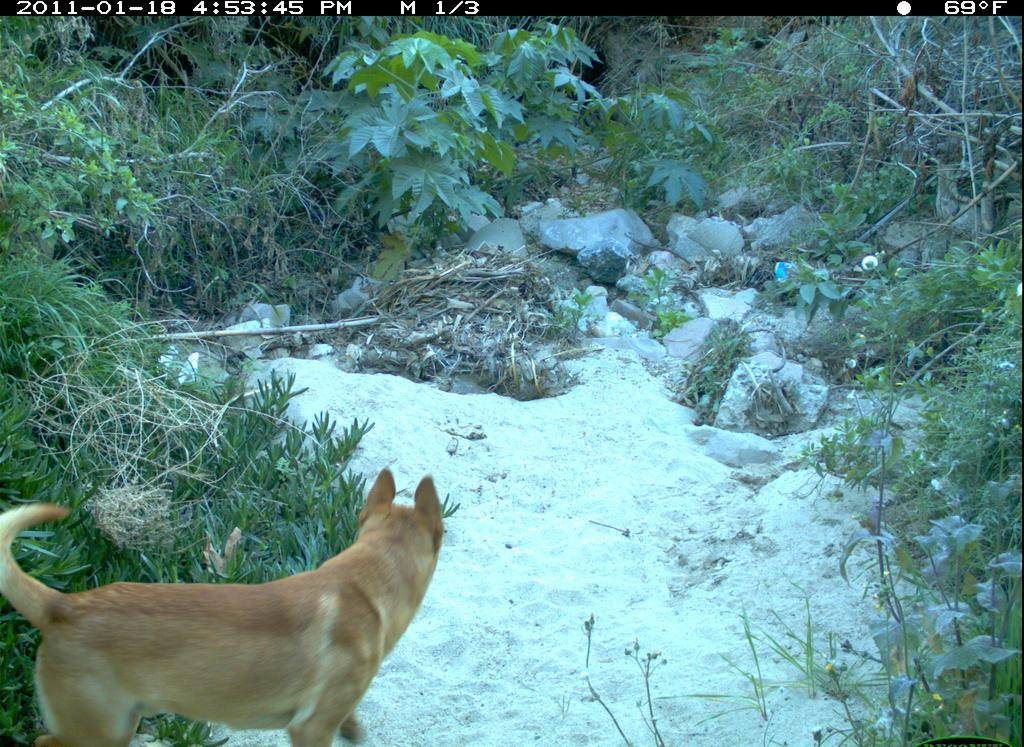dog: (1, 468, 447, 747)
